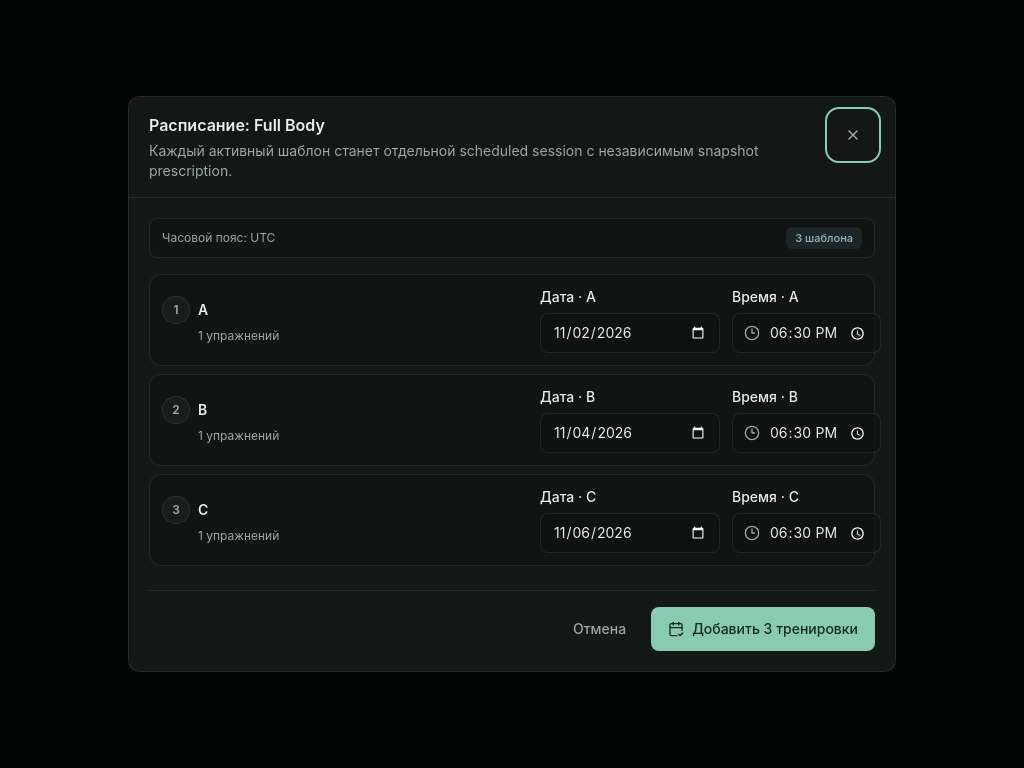
Test: WeeklyScheduleDialog requests › posts one real scheduled session per active template
Click the button "Добавить 3 тренировки" at [763, 629], box [651,607,875,651]
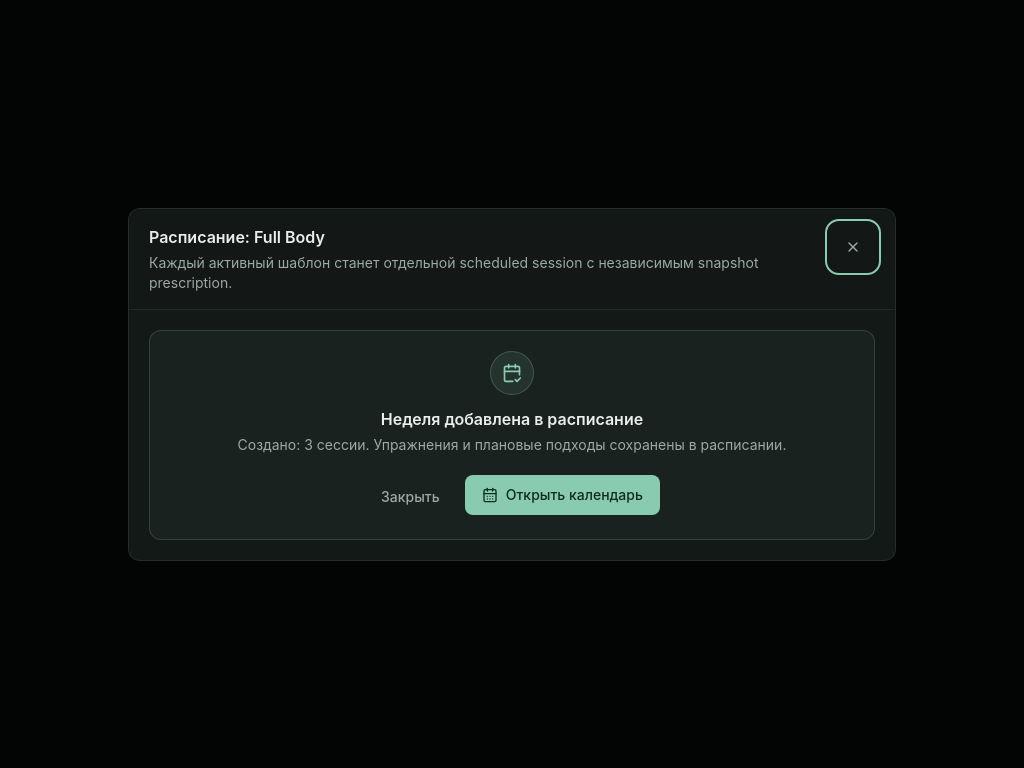
Check: the heading "Неделя добавлена в расписание" is shown, box [381,408,643,428]
